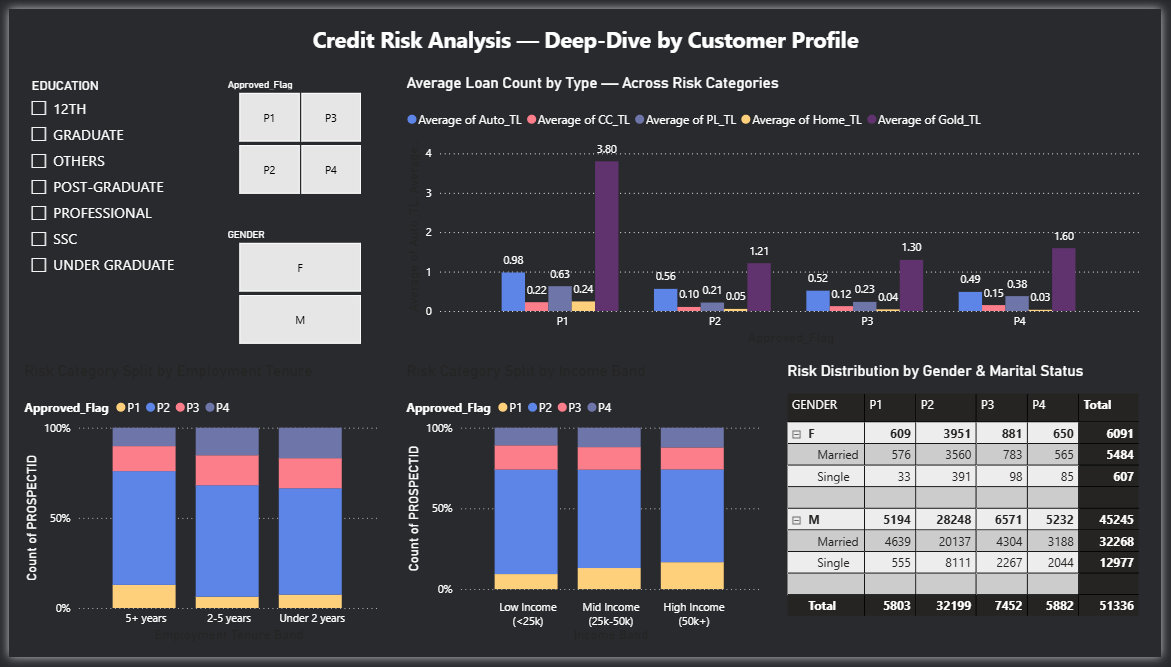

This screenshot's page, from the dashboard's own definition file:
{"tool":"powerbi","page":{"name":"Risk Deep-Dive","canvas":[1280,720],"ordinal":1},"visuals":[{"type":"textbox","box":[275,12,730,48],"z":0},{"type":"clusteredColumnChart","title":"Average Loan Count by Type — Across Risk Categories","fields":{"Category":["credit_risk_analysis external_cibil_data.Approved_Flag"],"Y":["Avg(credit_risk_analysis internal_bank_data.Auto_TL)","Avg(credit_risk_analysis internal_bank_data.CC_TL)","Avg(credit_risk_analysis internal_bank_data.PL_TL)","Avg(credit_risk_analysis internal_bank_data.Home_TL)","Avg(credit_risk_analysis internal_bank_data.Gold_TL)"]},"box":[436.7,71.7,826.7,306.7],"z":1000},{"type":"hundredPercentStackedColumnChart","title":"Risk Category Split by Income Band","fields":{"Category":["credit_risk_analysis external_cibil_data.Income Band"],"Y":["CountNonNull(credit_risk_analysis external_cibil_data.PROSPECTID)"],"Series":["credit_risk_analysis external_cibil_data.Approved_Flag"]},"box":[436.7,391.7,403.3,316.7],"z":2000},{"type":"hundredPercentStackedColumnChart","title":"Risk Category Split by Employment Tenure","fields":{"Category":["credit_risk_analysis external_cibil_data.Employment Tenure Band"],"Y":["CountNonNull(credit_risk_analysis external_cibil_data.PROSPECTID)"],"Series":["credit_risk_analysis external_cibil_data.Approved_Flag"]},"box":[11.7,391.7,403.3,316.7],"z":3000},{"type":"pivotTable","title":"Risk Distribution by Gender & Marital Status","fields":{"Rows":["credit_risk_analysis external_cibil_data.GENDER","credit_risk_analysis external_cibil_data.MARITALSTATUS"],"Values":["CountNonNull(credit_risk_analysis external_cibil_data.PROSPECTID)"],"Columns":["credit_risk_analysis external_cibil_data.Approved_Flag"]},"box":[860,391.7,403.3,316.7],"z":4000},{"type":"slicer","fields":{"Values":["credit_risk_analysis external_cibil_data.Approved_Flag"]},"box":[230,72,185,140],"z":5000},{"type":"slicer","fields":{"Values":["credit_risk_analysis external_cibil_data.GENDER"]},"box":[230,238.3,185,140],"z":6000},{"type":"slicer","fields":{"Values":["credit_risk_analysis external_cibil_data.EDUCATION"]},"box":[11.7,71.7,201.7,306.7],"z":7000}]}

Visuals, with their boxes in screenshot pixels (x1, y1, x2, y2), scaled from the page's 1280x720 canvas onto the 1171x667 screenshot:
textbox: select_region(252, 11, 919, 56)
"Average Loan Count by Type — Across Risk Categories" clusteredColumnChart: select_region(400, 66, 1156, 351)
"Risk Category Split by Income Band" hundredPercentStackedColumnChart: select_region(400, 363, 768, 656)
"Risk Category Split by Employment Tenure" hundredPercentStackedColumnChart: select_region(11, 363, 380, 656)
"Risk Distribution by Gender & Marital Status" pivotTable: select_region(787, 363, 1156, 656)
slicer - credit_risk_analysis external_cibil_data.Approved_Flag: select_region(210, 67, 380, 196)
slicer - credit_risk_analysis external_cibil_data.GENDER: select_region(210, 221, 380, 350)
slicer - credit_risk_analysis external_cibil_data.EDUCATION: select_region(11, 66, 195, 351)
